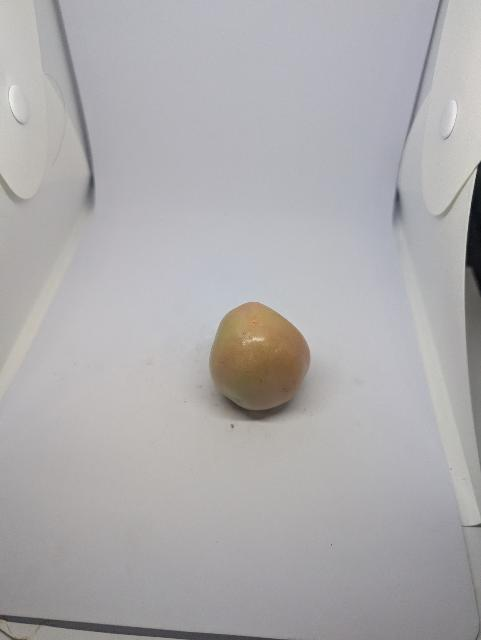breaker: (206, 295, 317, 419)
